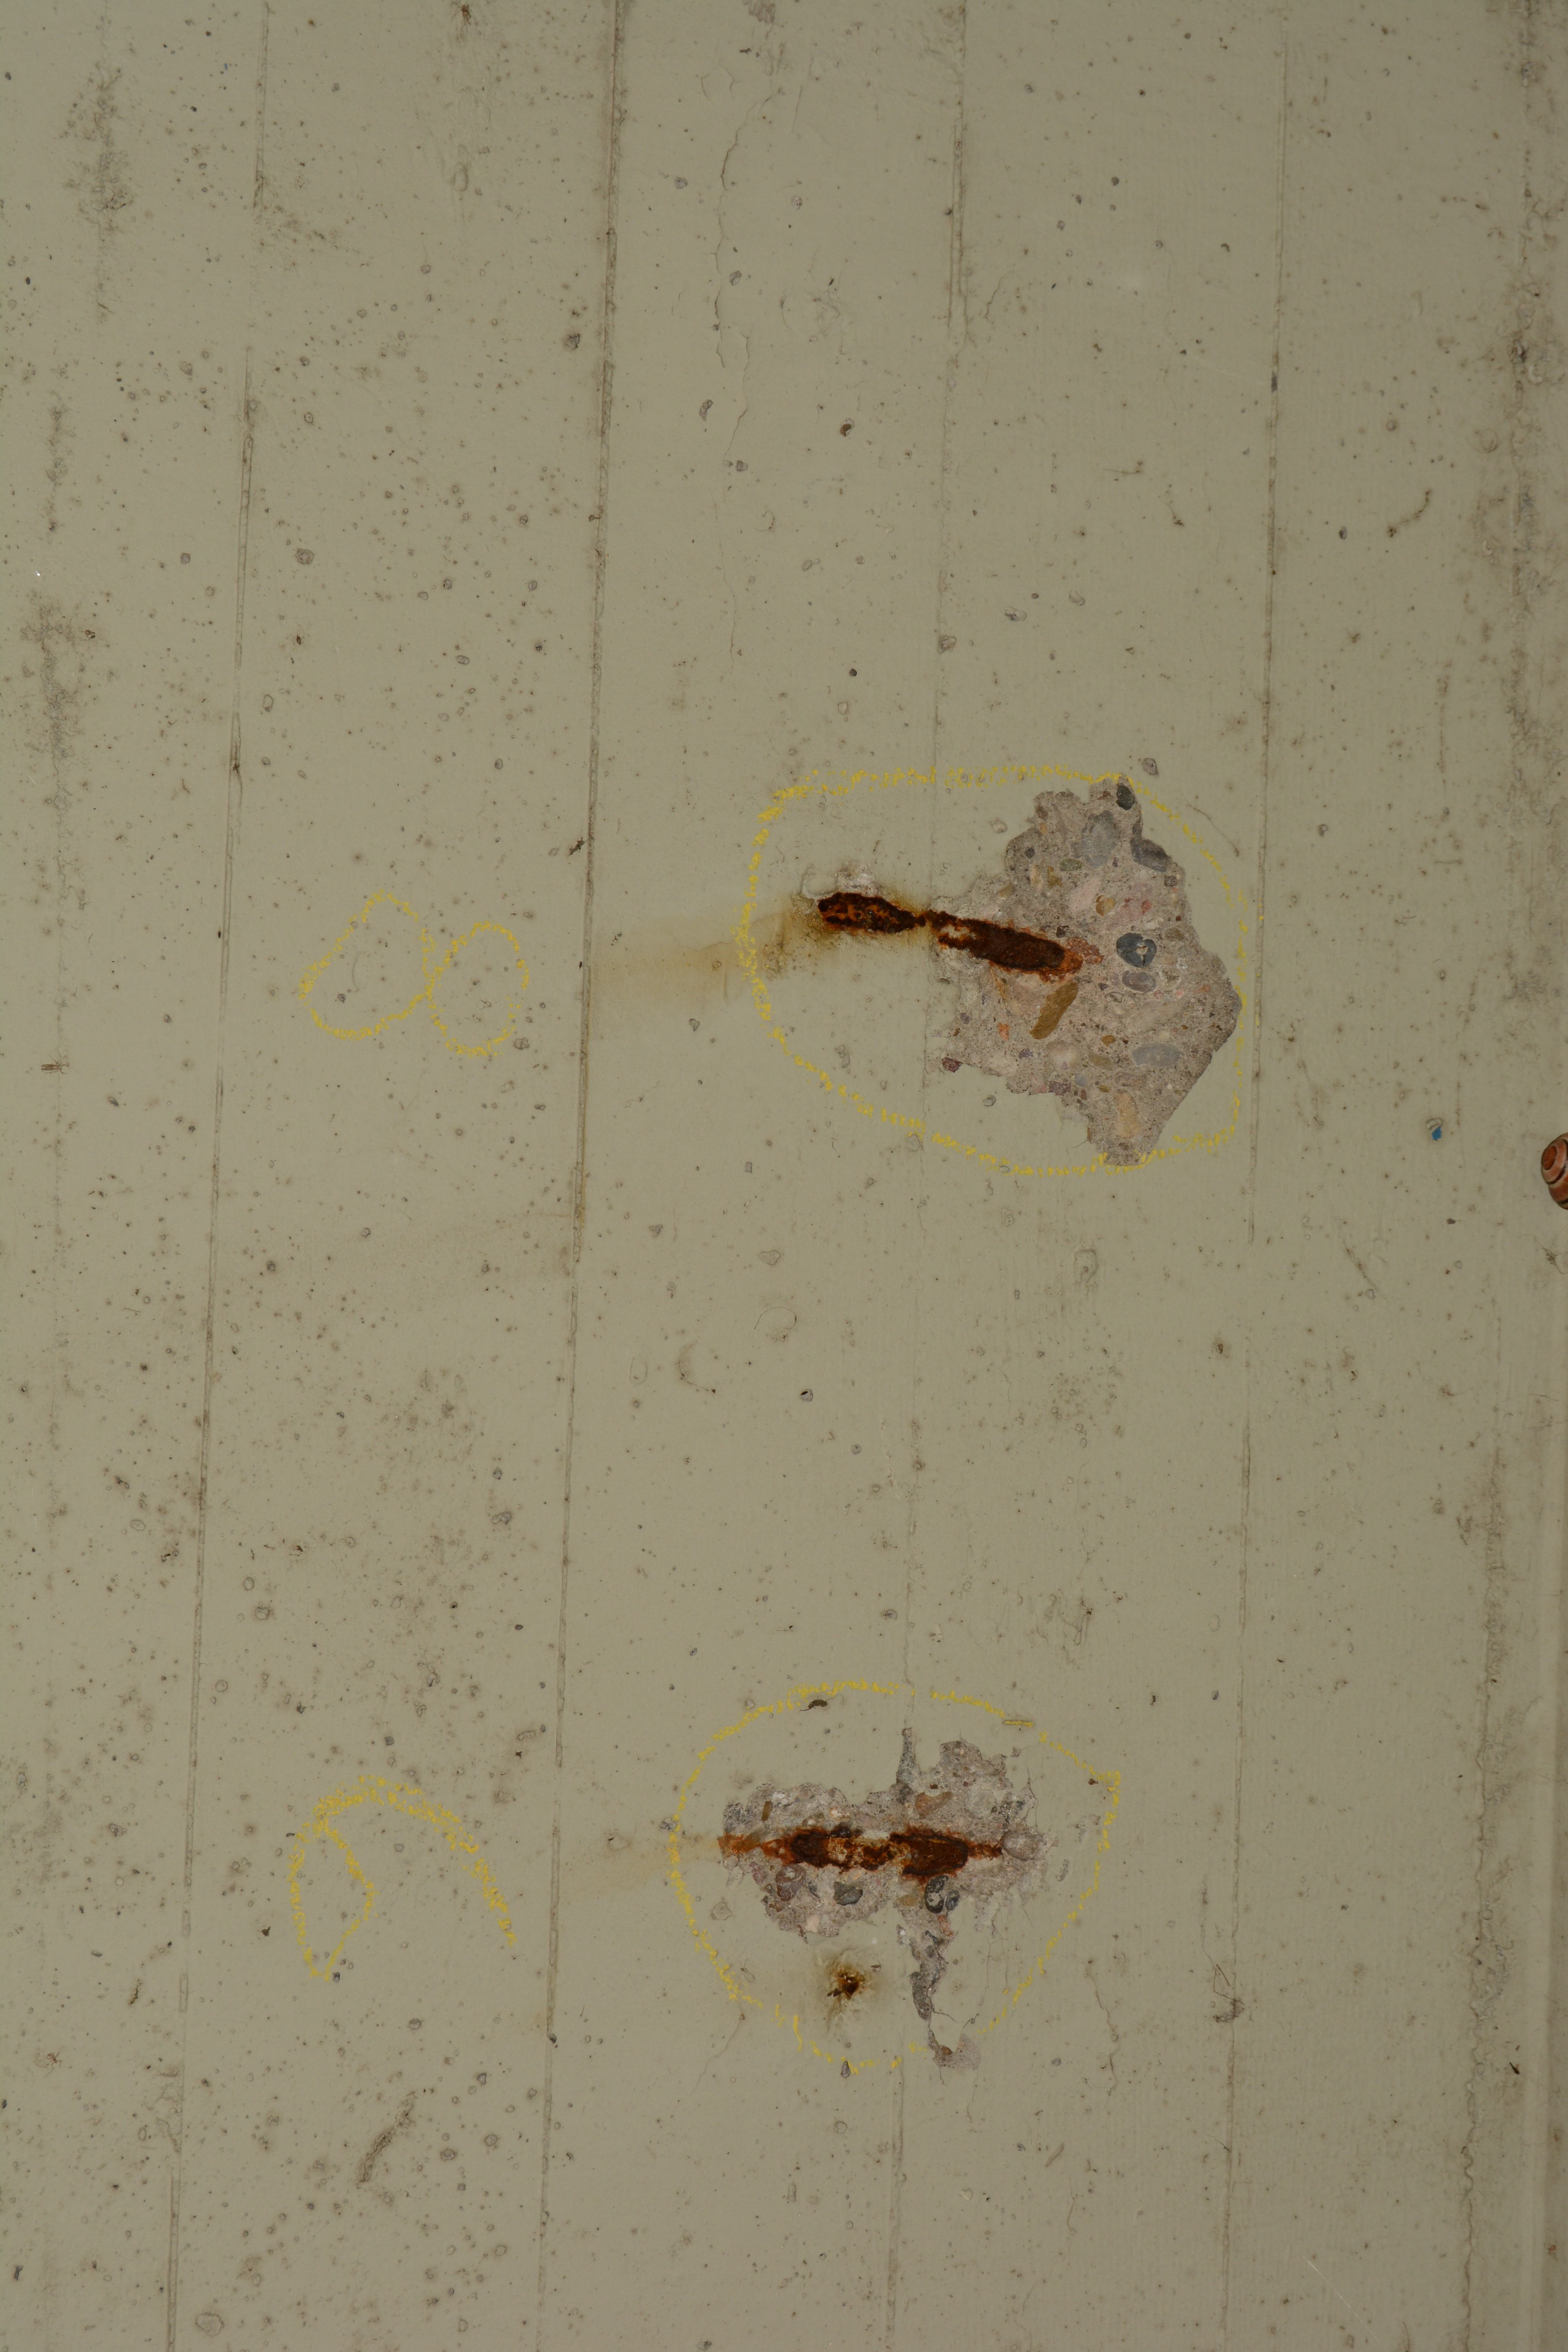Corrosion: (716, 1836, 791, 1866), (826, 1971, 865, 2000), (970, 1839, 1004, 1862)
Exposed reinforcement: (817, 891, 1066, 973), (791, 1829, 970, 1876)
Spalling: (926, 773, 1241, 1167), (716, 1726, 1055, 2077)
